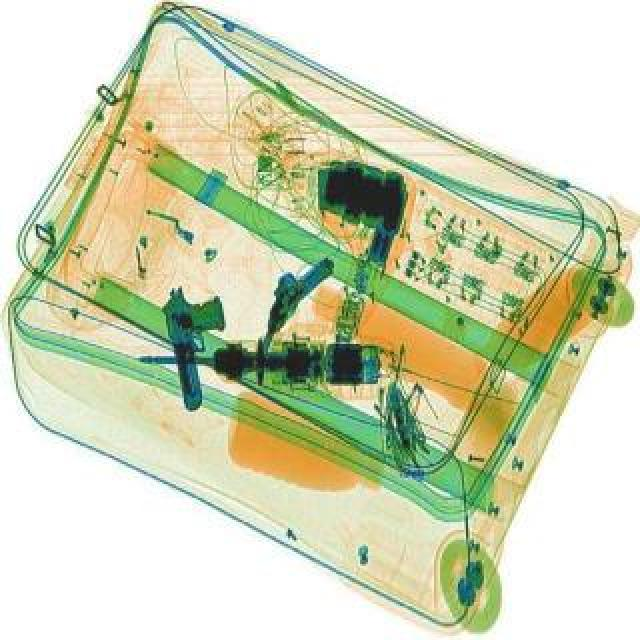gun: (234, 246, 346, 358), (162, 284, 246, 416)
